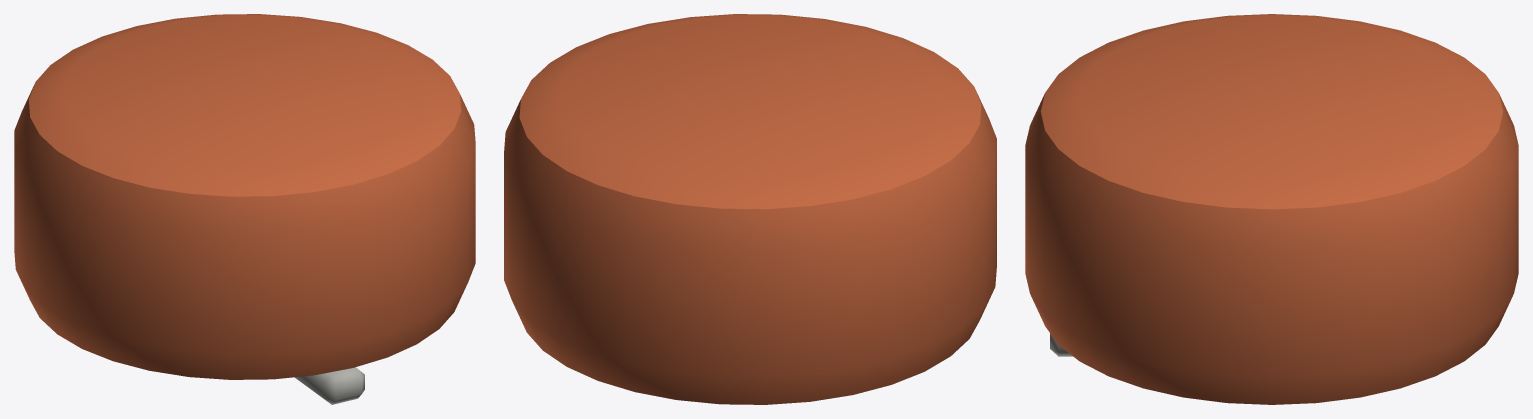
Rendered from soldering_station_temperature_knob.glb.
The picture shows the model from 3 angles, left to right: view 1: azimuth 30°, elevation 25°; view 2: azimuth 150°, elevation 25°; view 3: azimuth 270°, elevation 25°; orthographic projection. The views are drawn at different scales.
Visible parts, largest first — view 1: soldering_station_temperature_knob; view 2: soldering_station_temperature_knob; view 3: soldering_station_temperature_knob.
Boxes of the visible parts, bbox=[...] form: soldering_station_temperature_knob: bbox=[14, 14, 475, 404]; soldering_station_temperature_knob: bbox=[504, 14, 996, 404]; soldering_station_temperature_knob: bbox=[1025, 14, 1518, 404].
Bounding box in the file's own units: 0.028 × 0.0158 × 0.028.
